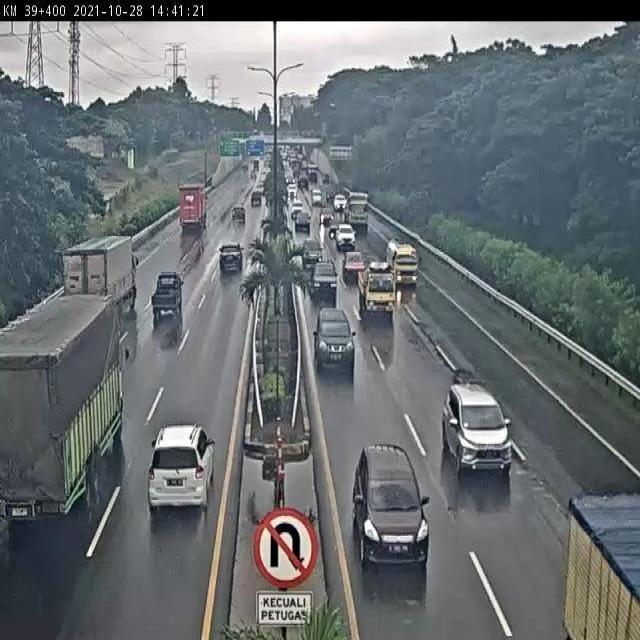car: (351, 444, 430, 571), (441, 379, 513, 477), (146, 423, 214, 513), (313, 308, 356, 371), (150, 271, 184, 317), (308, 261, 338, 303), (218, 240, 244, 275), (342, 252, 365, 283)
mid truck: (0, 292, 129, 521), (61, 235, 138, 320)
truck-m-: (357, 260, 396, 320), (385, 237, 419, 288)
